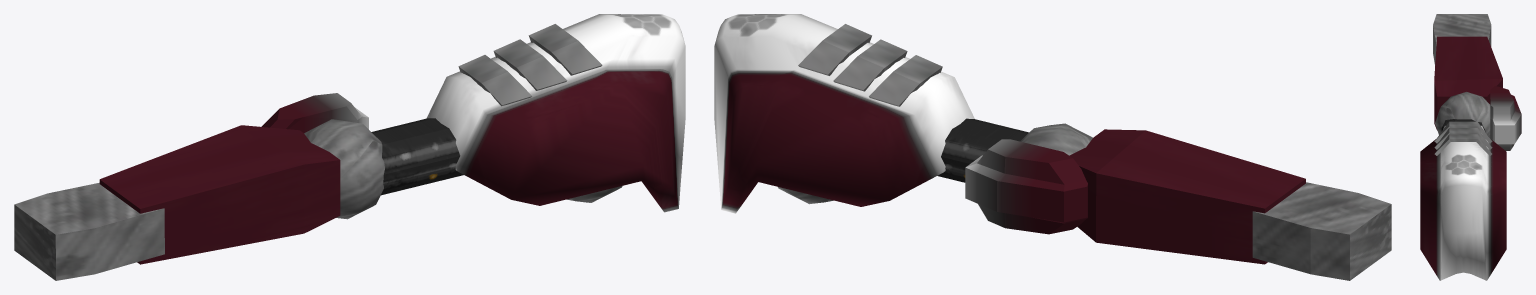
File: Robot 8 R arm.fbx
3 renders of one model, left to right at view 1: azimuth 30°, elevation 25°; view 2: azimuth 150°, elevation 25°; view 3: azimuth 270°, elevation 25°, orthographic. The views are drawn at different scales.
Parts seen in each view (by area): view 1: Icosphere.004, Icosphere.006, Cube.017; view 2: Icosphere.004, Icosphere.006, Cube.017; view 3: Icosphere.004, Icosphere.006, Cube.017.
Part boxes in pixels (x1,y1,x2,y2): Icosphere.004: [371, 14, 685, 212]; Icosphere.006: [99, 93, 384, 264]; Cube.017: [14, 182, 164, 280]; Icosphere.004: [714, 14, 1028, 213]; Icosphere.006: [965, 123, 1305, 264]; Cube.017: [1252, 182, 1391, 280]; Icosphere.004: [1420, 119, 1506, 280]; Icosphere.006: [1434, 36, 1521, 150]; Cube.017: [1433, 14, 1491, 65].
Bounding box in the file's own units: 618 × 173 × 137.
